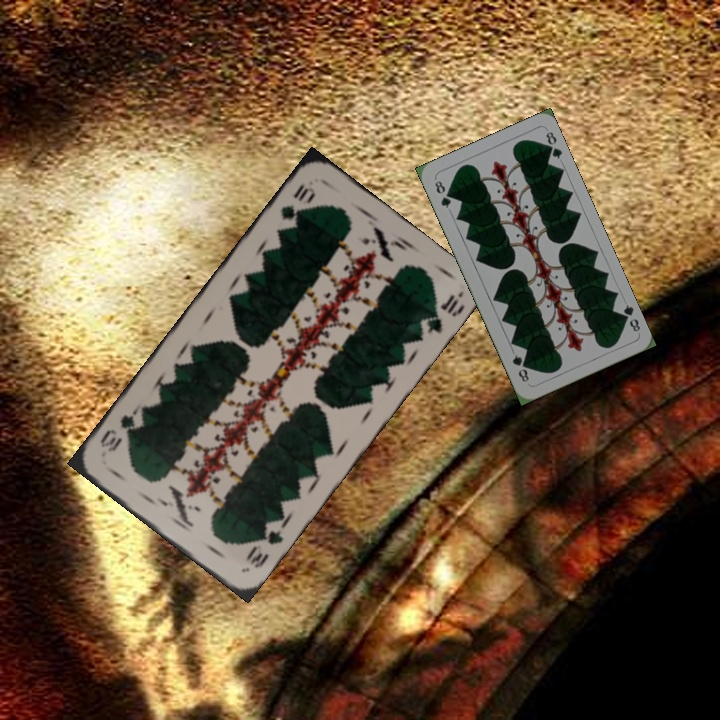G10: (242, 523, 286, 571), (276, 179, 318, 223)
G8: (616, 300, 643, 335), (431, 176, 454, 211)
